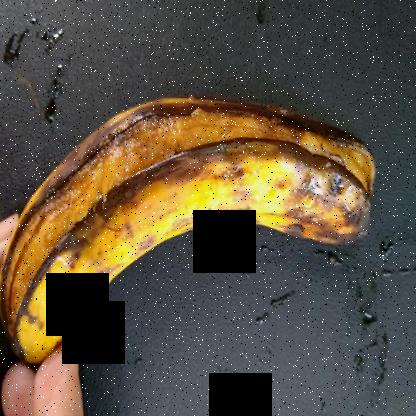rotten: (0, 76, 382, 367)
